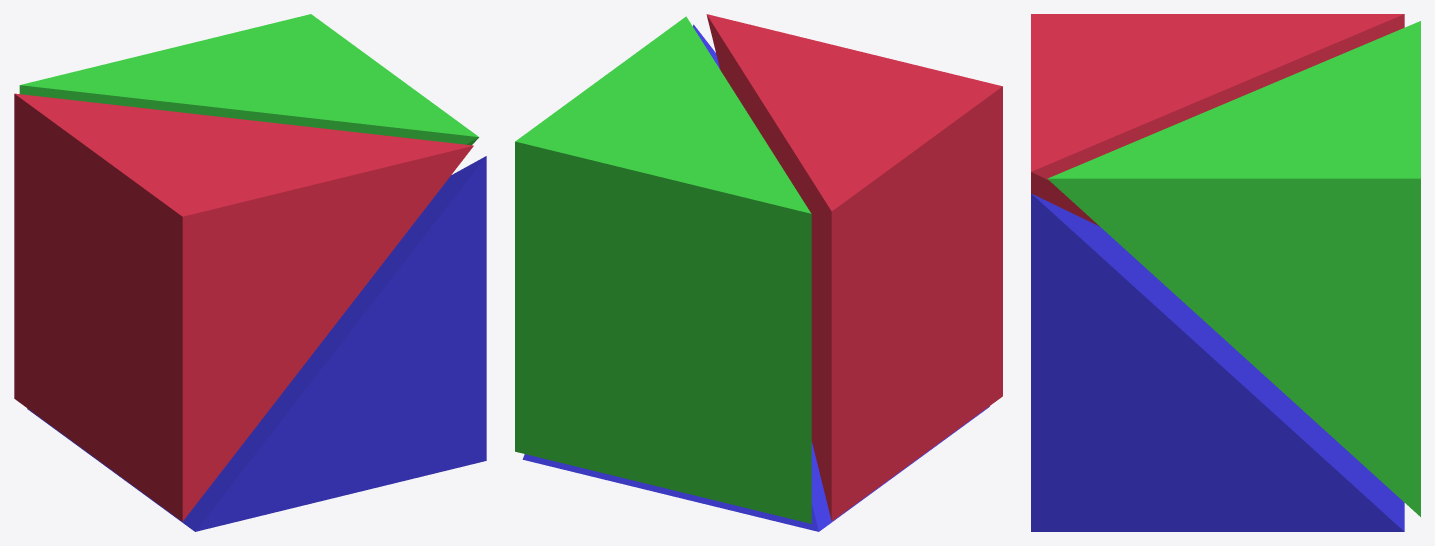
Rendered from 04_One_third_volume.dae.
3 views of the same model, side by side, from view 1: azimuth 30°, elevation 25°; view 2: azimuth 150°, elevation 25°; view 3: azimuth 270°, elevation 25° (orthographic). The views are drawn at different scales.
Parts seen in each view (by area): view 1: Pyramid_X, Pyramid_Z, Pyramid_Y; view 2: Pyramid_Y, Pyramid_X, Pyramid_Z; view 3: Pyramid_Y, Pyramid_Z, Pyramid_X.
Boxes of the visible parts, x1,y1,x2,y2 form: Pyramid_X: (14, 93, 473, 521); Pyramid_Z: (27, 156, 486, 531); Pyramid_Y: (19, 14, 479, 145); Pyramid_Y: (515, 16, 811, 523); Pyramid_X: (706, 14, 1002, 521); Pyramid_Z: (522, 24, 989, 531); Pyramid_Y: (1047, 21, 1420, 516); Pyramid_Z: (1031, 193, 1404, 531); Pyramid_X: (1031, 14, 1404, 226).
Bounding box in the file's own units: 2.09 × 2.09 × 2.09.
